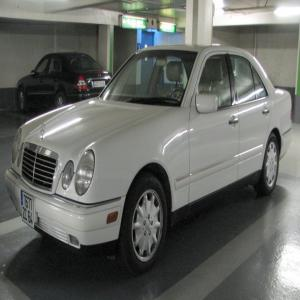Vehicle-registration-plate: (22, 191, 35, 229)
